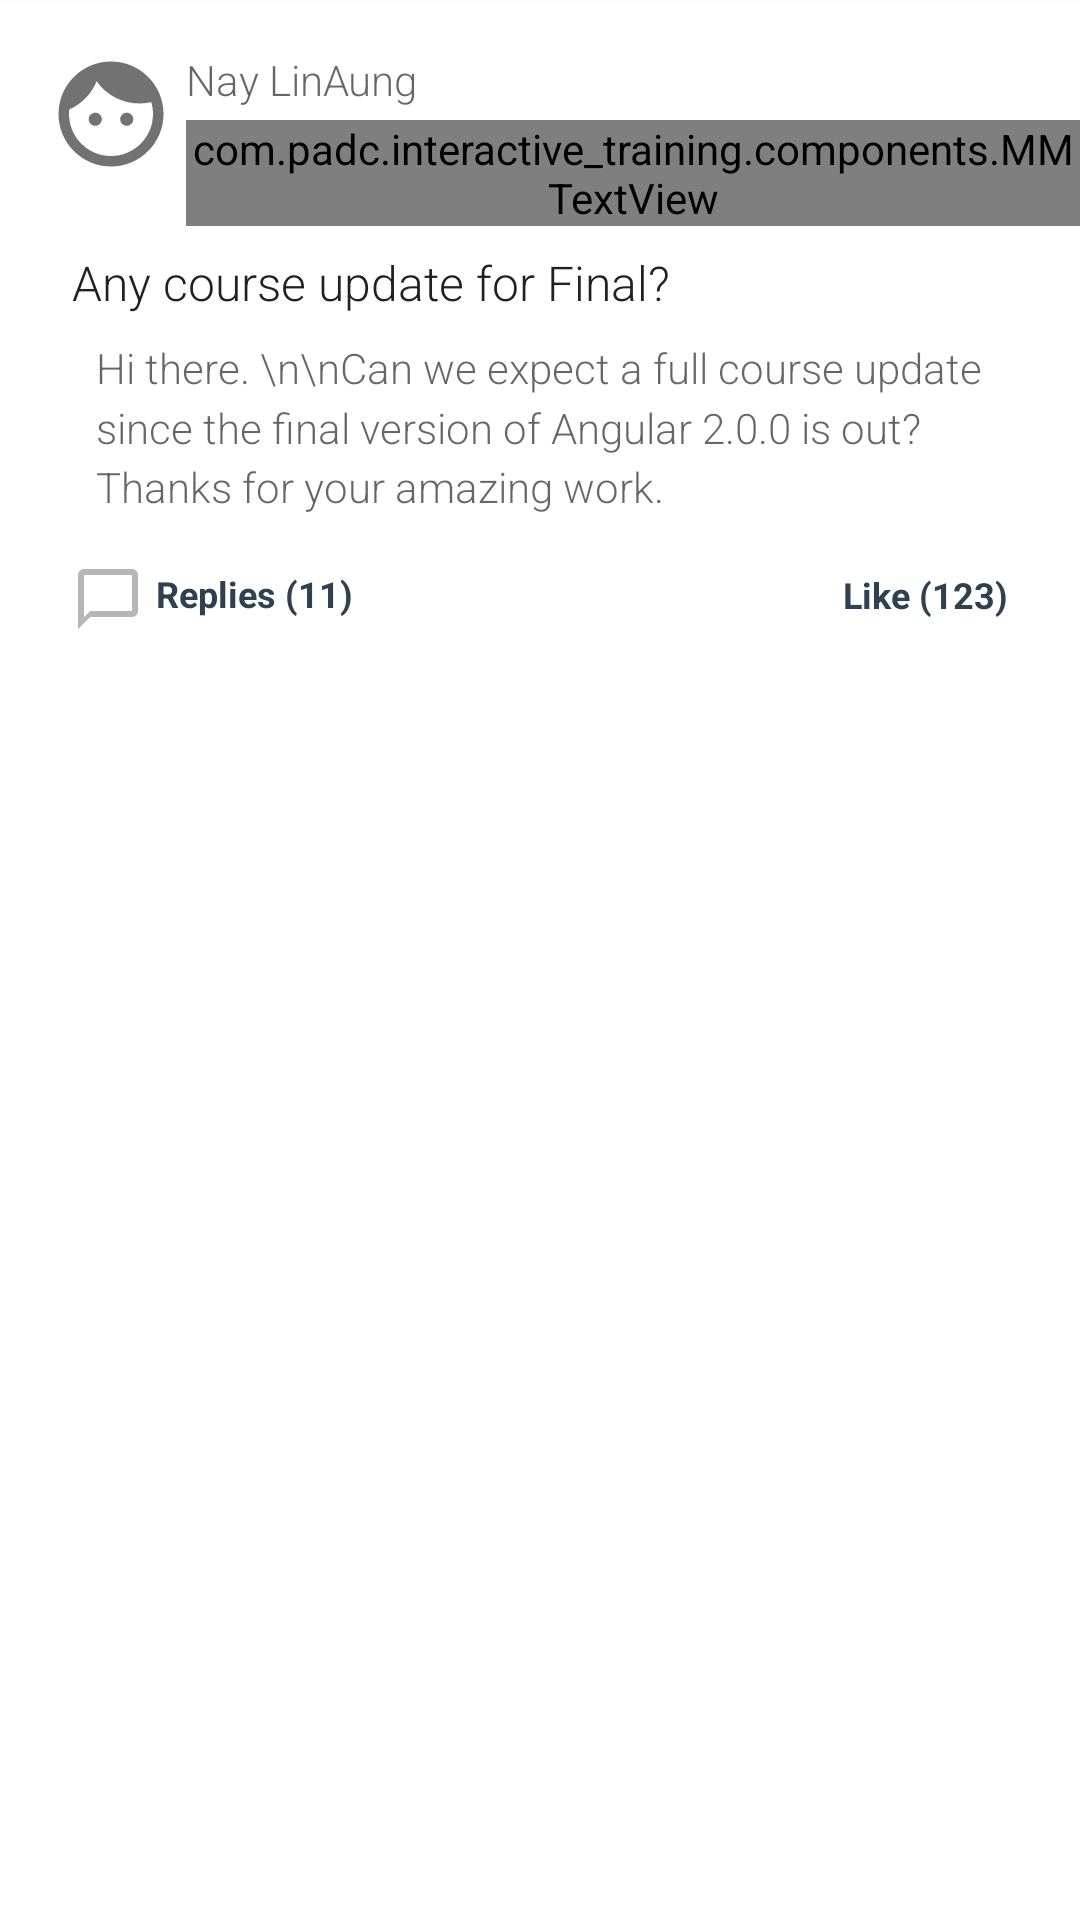

Named icons in this screenshot (1080px×1920px) and their centers, [x,y]:
chat bubble: [108,599]
face: [111,114]
